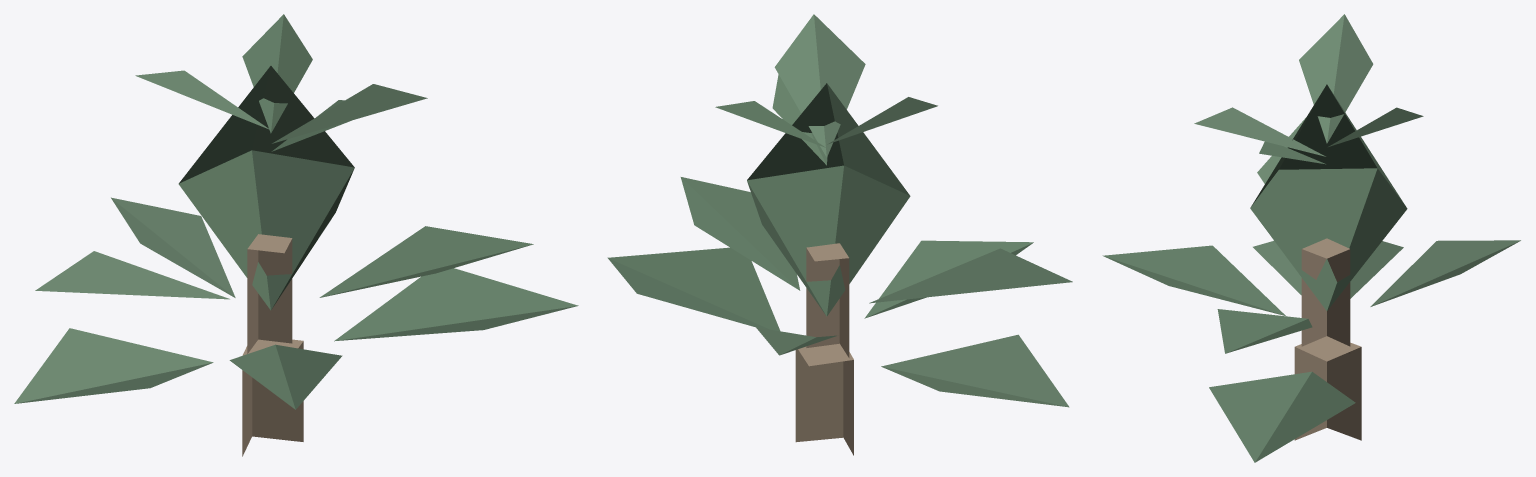
File: shu.lengshan@seedling__spring.glb
3 views of the same model, side by side, from view 1: azimuth 30°, elevation 25°; view 2: azimuth 150°, elevation 25°; view 3: azimuth 270°, elevation 25° (orthographic). The views are drawn at different scales.
Visible parts, largest first — view 1: shu.lengshan@seedling__spring; view 2: shu.lengshan@seedling__spring; view 3: shu.lengshan@seedling__spring.
Boxes of the visible parts, left/top/right/bottom form: shu.lengshan@seedling__spring: left=14, top=14, right=578, bottom=456; shu.lengshan@seedling__spring: left=607, top=14, right=1072, bottom=455; shu.lengshan@seedling__spring: left=1102, top=14, right=1520, bottom=462.
Bounding box in the file's own units: 2.01 × 1.46 × 1.5.
